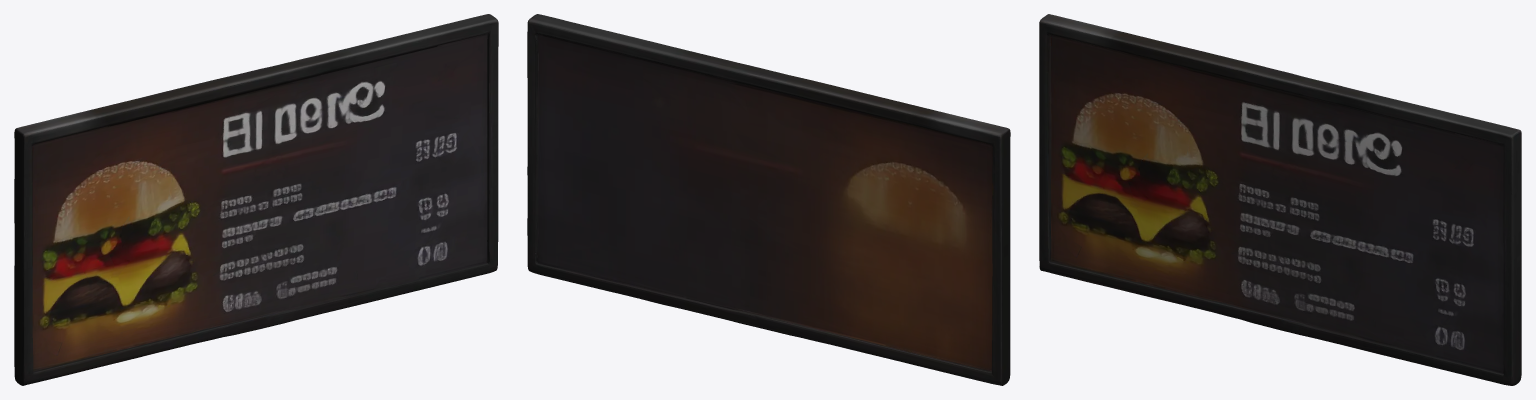
The picture shows the model from 3 angles, left to right: view 1: azimuth 30°, elevation 25°; view 2: azimuth 150°, elevation 25°; view 3: azimuth 330°, elevation 25°; orthographic projection.
Parts seen in each view (by area): view 1: geometry_0; view 2: geometry_0; view 3: geometry_0.
Part boxes in pixels (x1,y1,x2,y2): geometry_0: [14, 14, 498, 385]; geometry_0: [527, 14, 1010, 385]; geometry_0: [1039, 14, 1521, 385].
Size of the model in its own units: 1 by 0.5121 by 0.0374.
Materials: 1 (1 with a texture image).
